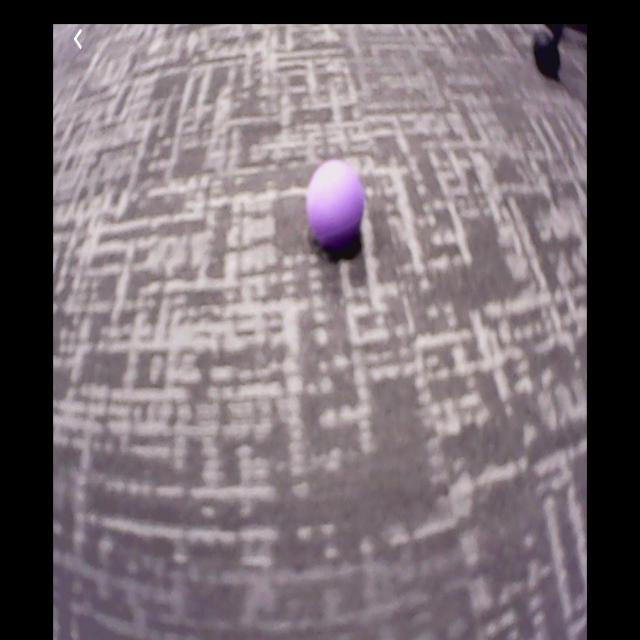ball: (309, 160, 364, 246)
